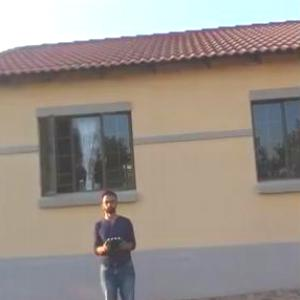follow: (89, 185, 143, 299)
